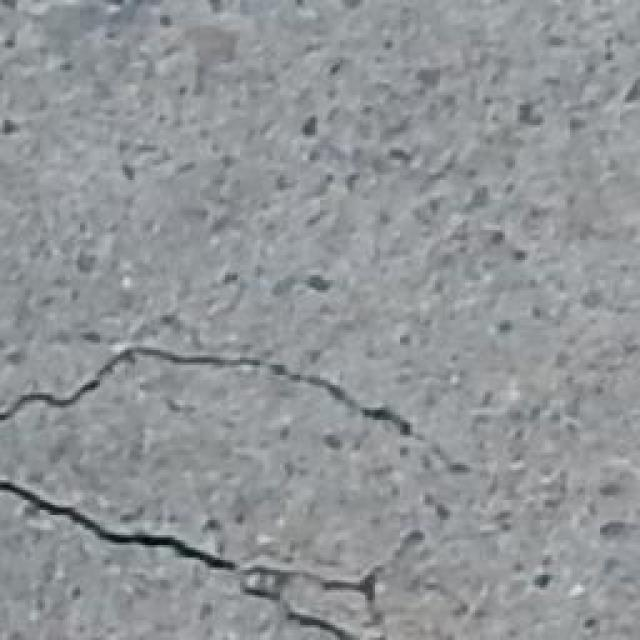concrete-crack: (5, 478, 366, 640), (0, 341, 427, 439), (266, 525, 434, 636)
